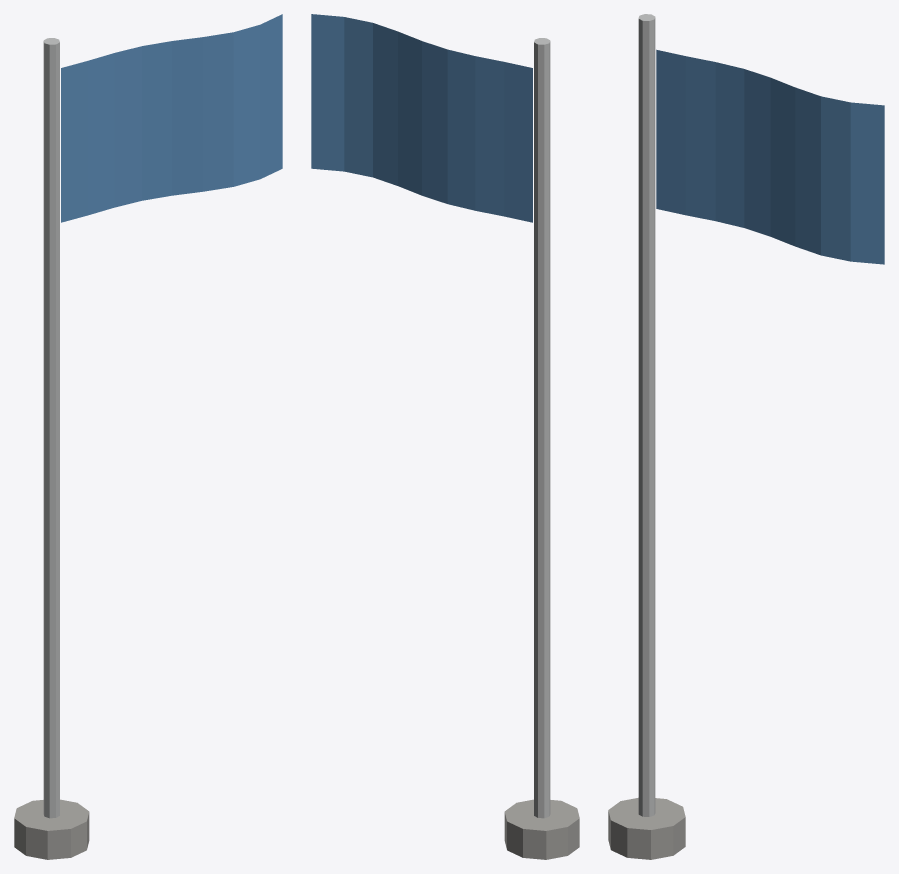
The model's file is kit_flag.glb.
3 views of the same model, side by side, from view 1: azimuth 30°, elevation 25°; view 2: azimuth 150°, elevation 25°; view 3: azimuth 330°, elevation 25° (orthographic). The views are drawn at different scales.
Parts seen in each view (by area): view 1: cloth, pole.001, base.002; view 2: cloth, pole.001, base.002; view 3: cloth, pole.001, base.002.
Boxes of the visible parts, x1,y1,x2,y2 form: cloth: (61, 14, 282, 222); pole.001: (43, 38, 59, 818); base.002: (14, 799, 89, 859); cloth: (311, 14, 532, 222); pole.001: (534, 38, 550, 818); base.002: (504, 799, 579, 859); cloth: (656, 49, 884, 264); pole.001: (638, 14, 655, 816); base.002: (608, 797, 685, 859).
Bounding box in the file's own units: 1.42 × 4.15 × 0.36.
